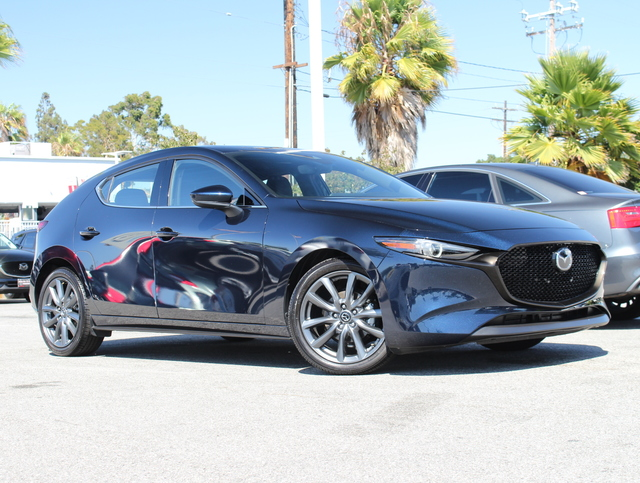Mazda3 Hatchback: (28, 145, 612, 376)
